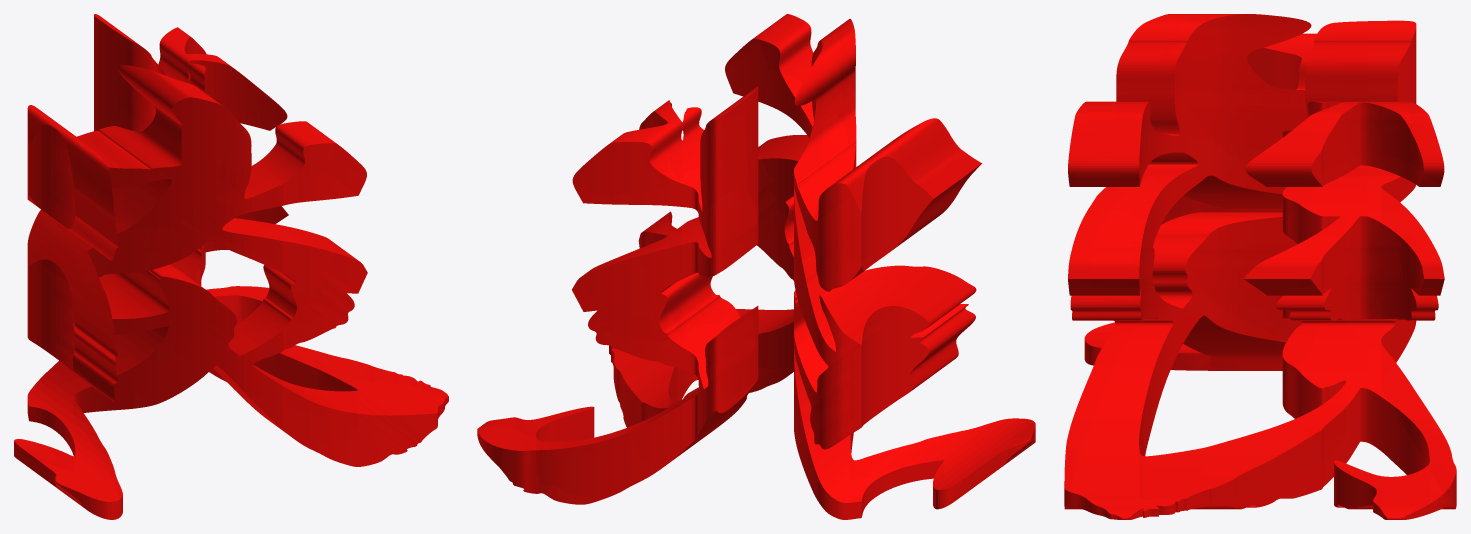
The model's file is rengoku_sss_apple.obj.
3 renders of one model, left to right at view 1: azimuth 30°, elevation 25°; view 2: azimuth 150°, elevation 25°; view 3: azimuth 270°, elevation 25°, orthographic. The views are drawn at different scales.
Parts seen in each view (by area): view 1: Curve.001_Mesh.006; view 2: Curve.001_Mesh.006; view 3: Curve.001_Mesh.006.
Part boxes in pixels (x1,y1,x2,y2): Curve.001_Mesh.006: (14, 14, 448, 519); Curve.001_Mesh.006: (477, 14, 1035, 519); Curve.001_Mesh.006: (1064, 14, 1456, 519).
Bounding box in the file's own units: 39.87 × 36.83 × 32.
